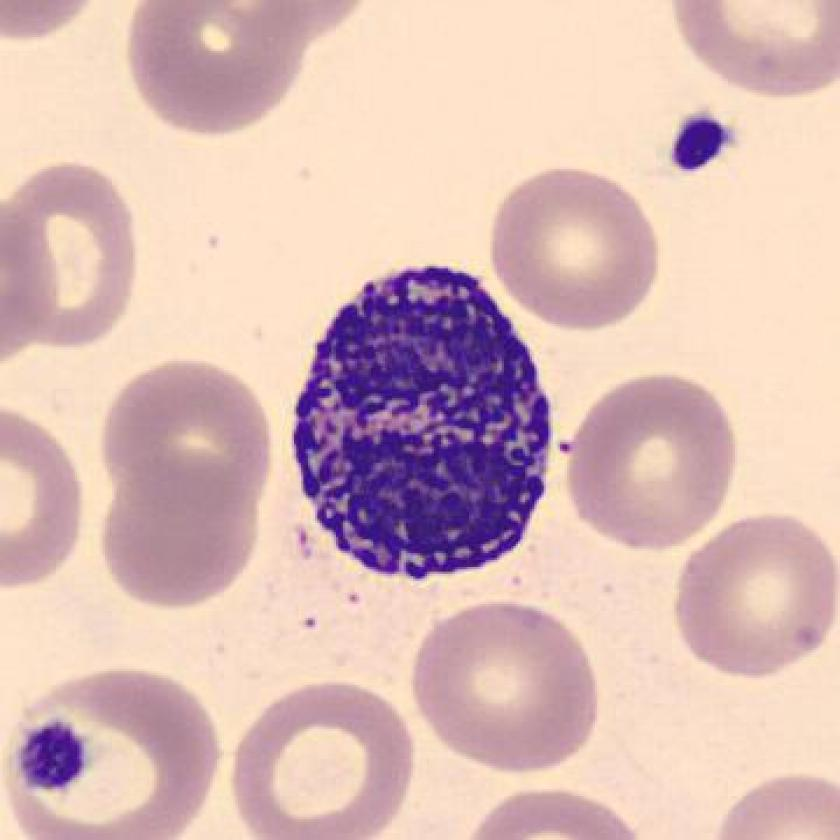basophil: (281, 253, 566, 596)
